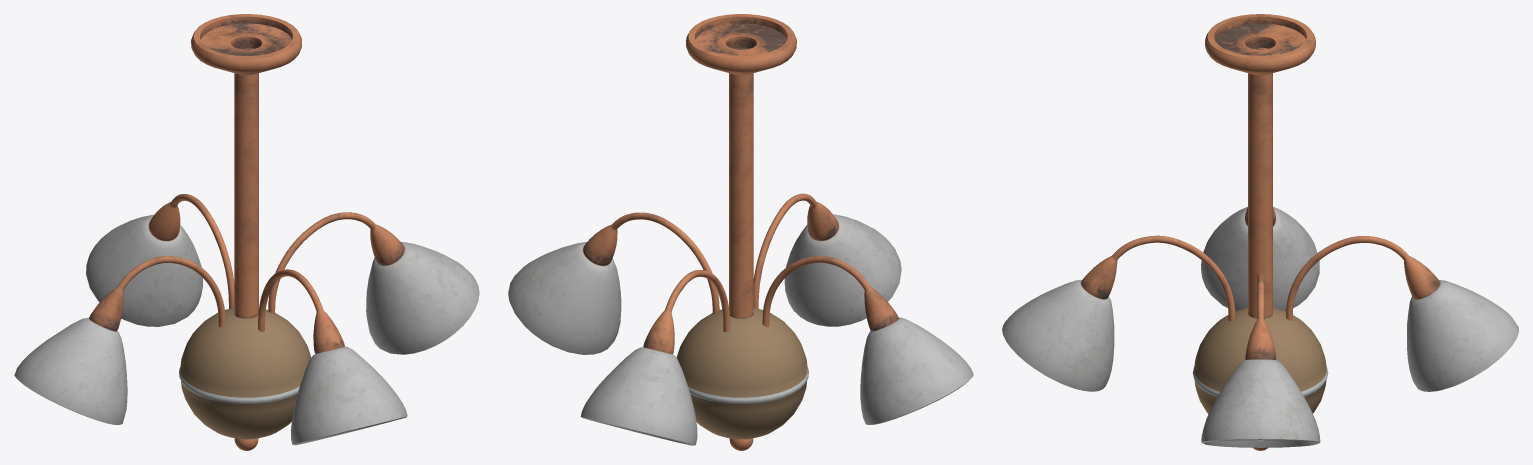
Rendered from chandelier.glb.
3 renders of one model, left to right at view 1: azimuth 30°, elevation 25°; view 2: azimuth 150°, elevation 25°; view 3: azimuth 270°, elevation 25°, orthographic.
Parts seen in each view (by area): view 1: _low; view 2: _low; view 3: _low.
Boxes of the visible parts, bbox=[...] form: _low: bbox=[14, 14, 479, 450]; _low: bbox=[508, 14, 973, 450]; _low: bbox=[1002, 14, 1518, 450].
Bounding box in the file's own units: 2.29 × 2.02 × 2.29.
Materials: 8 (5 with a texture image).
